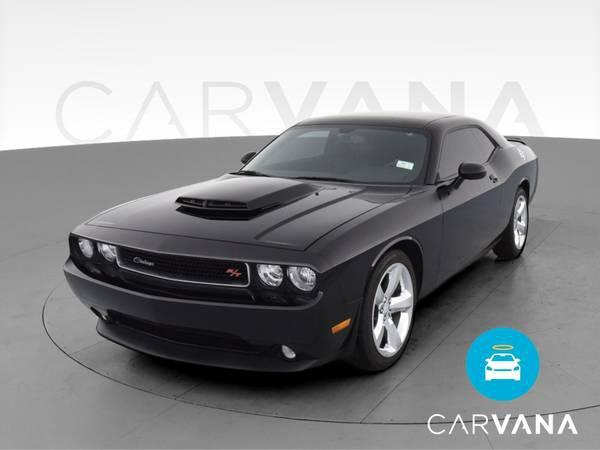Front_Bumper: (56, 262, 354, 372)
Front_Fender: (301, 179, 442, 301)
Front_Left_Door: (438, 159, 503, 283)
Front_Left_Window: (438, 127, 500, 189)
Front_Windshield: (237, 124, 431, 187)
Grille: (111, 239, 253, 304)
Hood: (72, 175, 416, 263)
Left_Headlight: (252, 259, 322, 307)
Rear_Fender: (489, 141, 539, 228)
Right_Headlight: (66, 232, 114, 284)
Roof: (301, 111, 515, 182)
Wheel: (361, 250, 419, 372), (491, 190, 530, 260)
